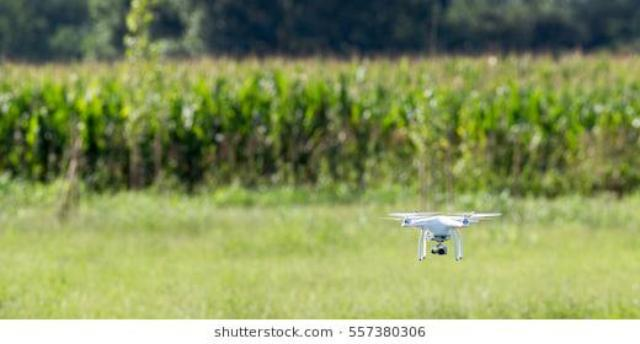drone: (362, 193, 512, 275)
